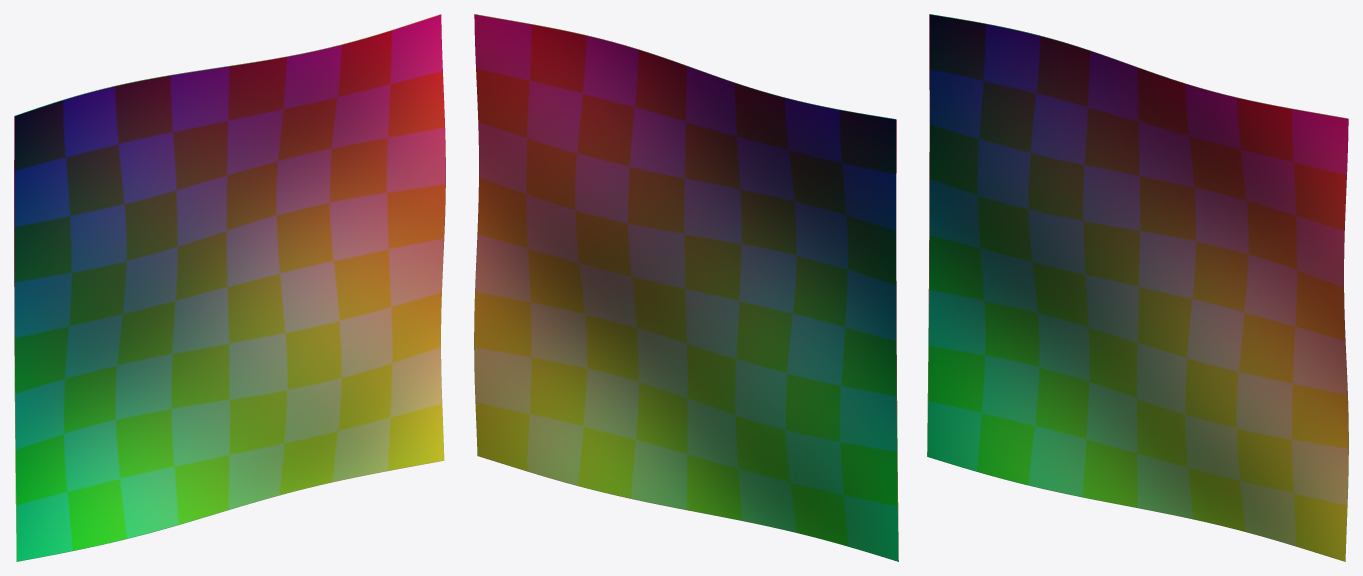
The model's file is Tile_+000_+007.obj.
3 views of the same model, side by side, from view 1: azimuth 30°, elevation 25°; view 2: azimuth 150°, elevation 25°; view 3: azimuth 330°, elevation 25° (orthographic).
Size of the model in its own units: 100 by 100 by 5.99.
